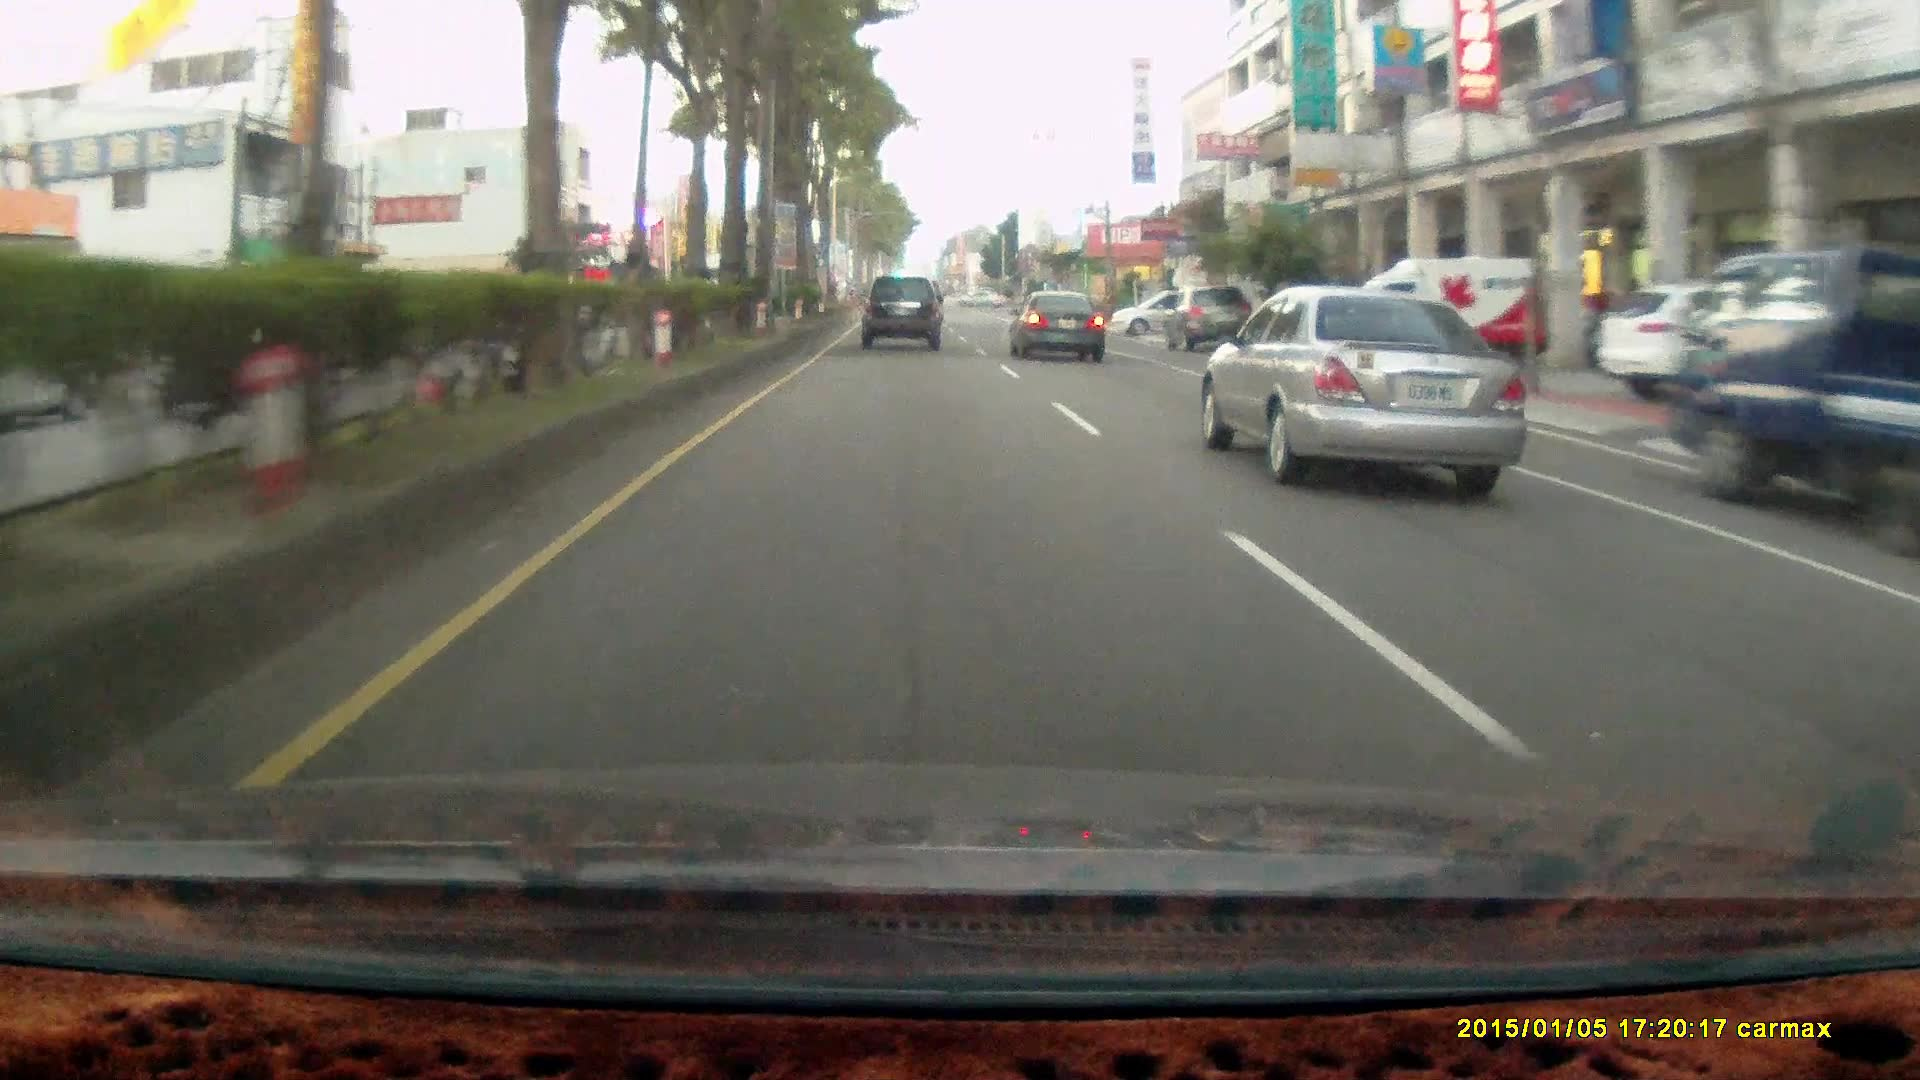vehicle: (1667, 251, 1920, 559), (1211, 289, 1538, 489), (1592, 280, 1832, 407), (1345, 255, 1549, 381), (1346, 255, 1544, 382), (1009, 287, 1110, 365), (1010, 287, 1106, 359), (860, 277, 945, 353), (858, 276, 940, 349), (1170, 289, 1255, 357), (1162, 287, 1251, 352)
